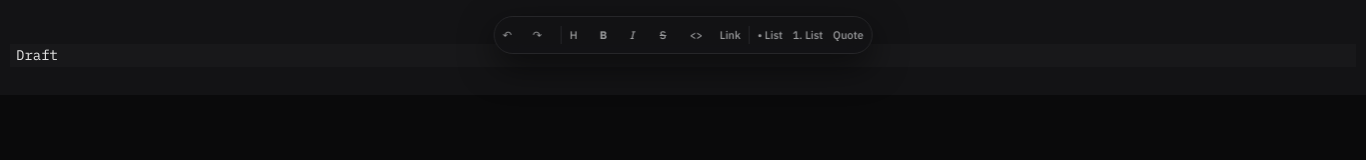
VaultMarkdownEditor › formats the current selection without replacing the editor
Click the button named "Bold" at (610, 35), box [596,21,624,49]
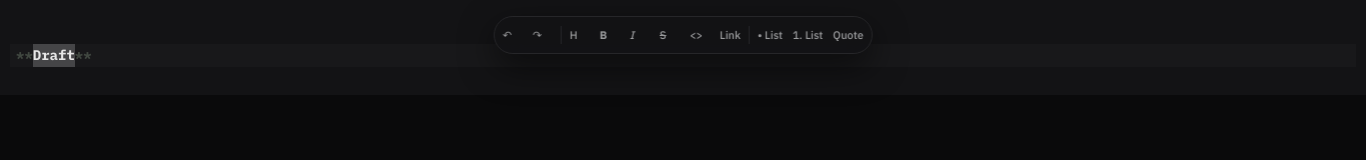
Result: the text box labelled "**Draft**" is shown at [10,44,1356,68]
